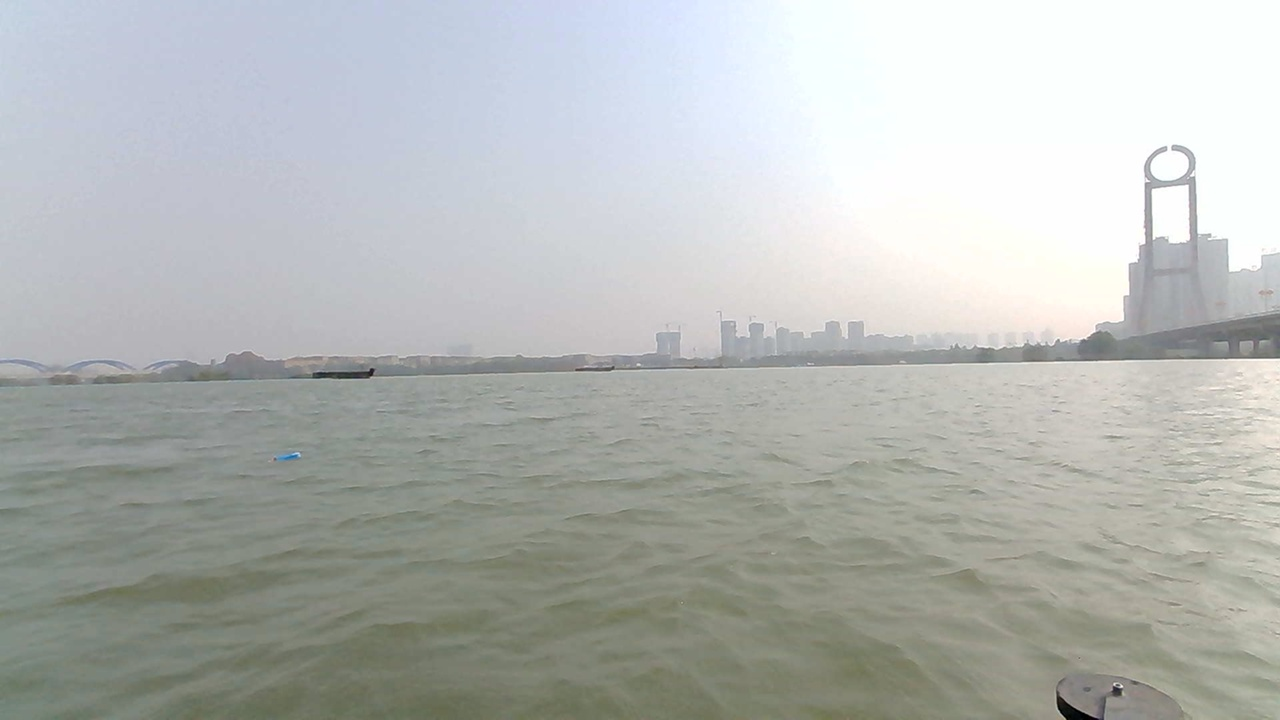bottle: (266, 447, 311, 469)
